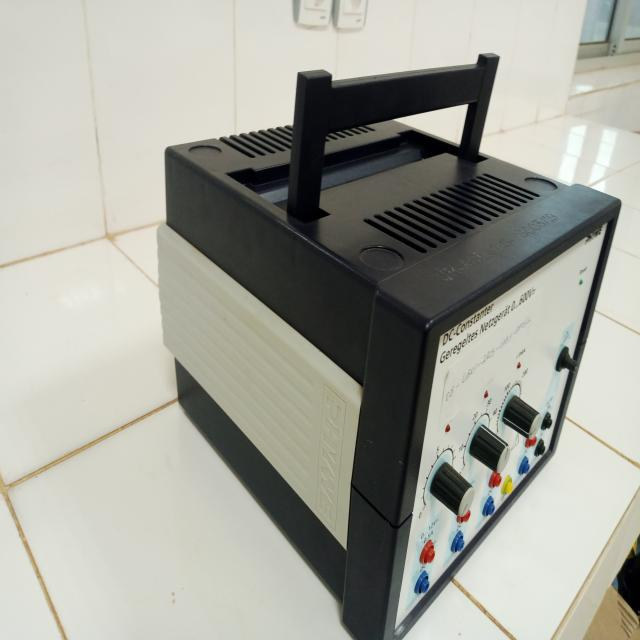DC Constant Power Supply 0-600V: (151, 54, 620, 634)
